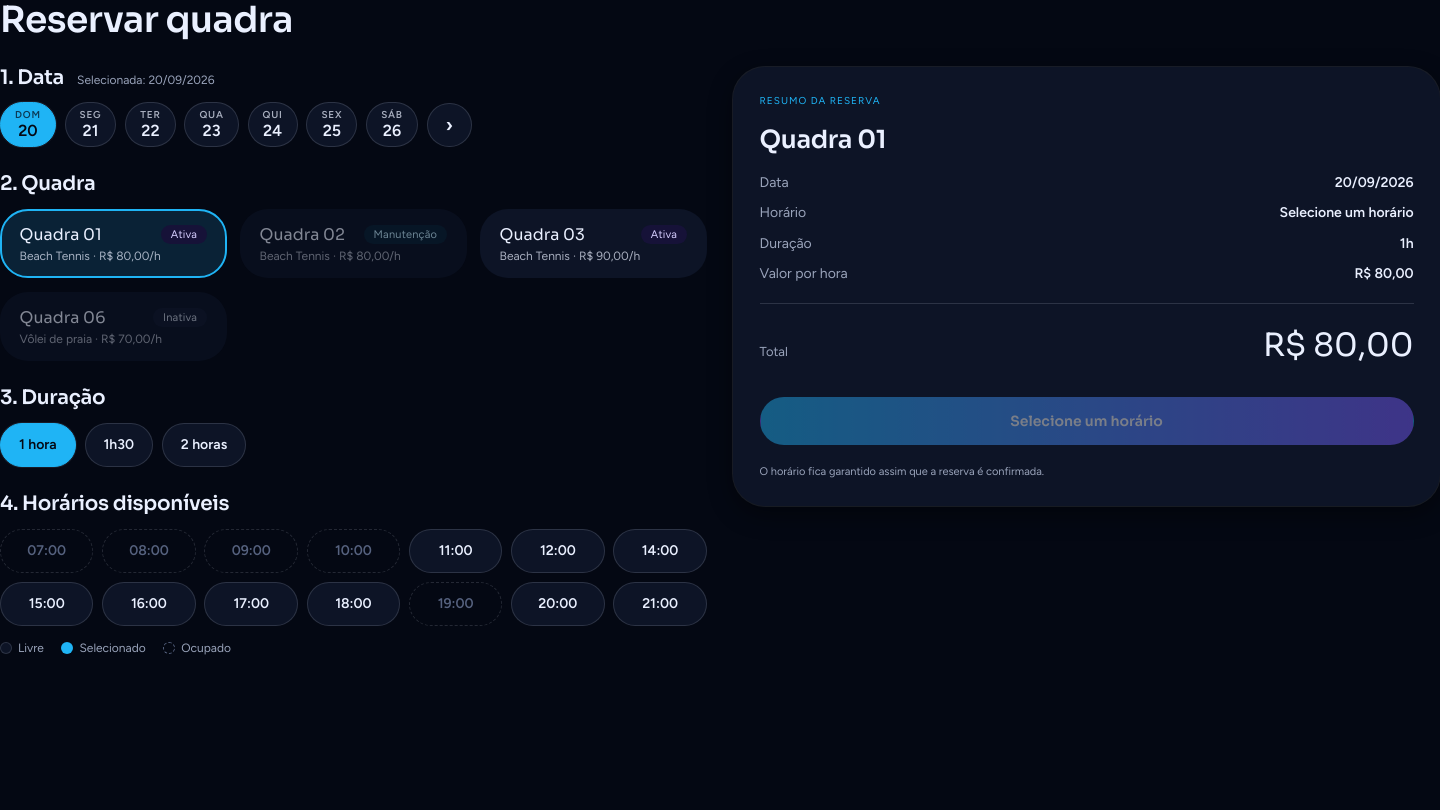
Test: ReservarPage › volta do diálogo sem reservar
The width and height of the screenshot is (1440, 810).
Click the button "15:00".
click(47, 604)  # box [0, 582, 93, 626]
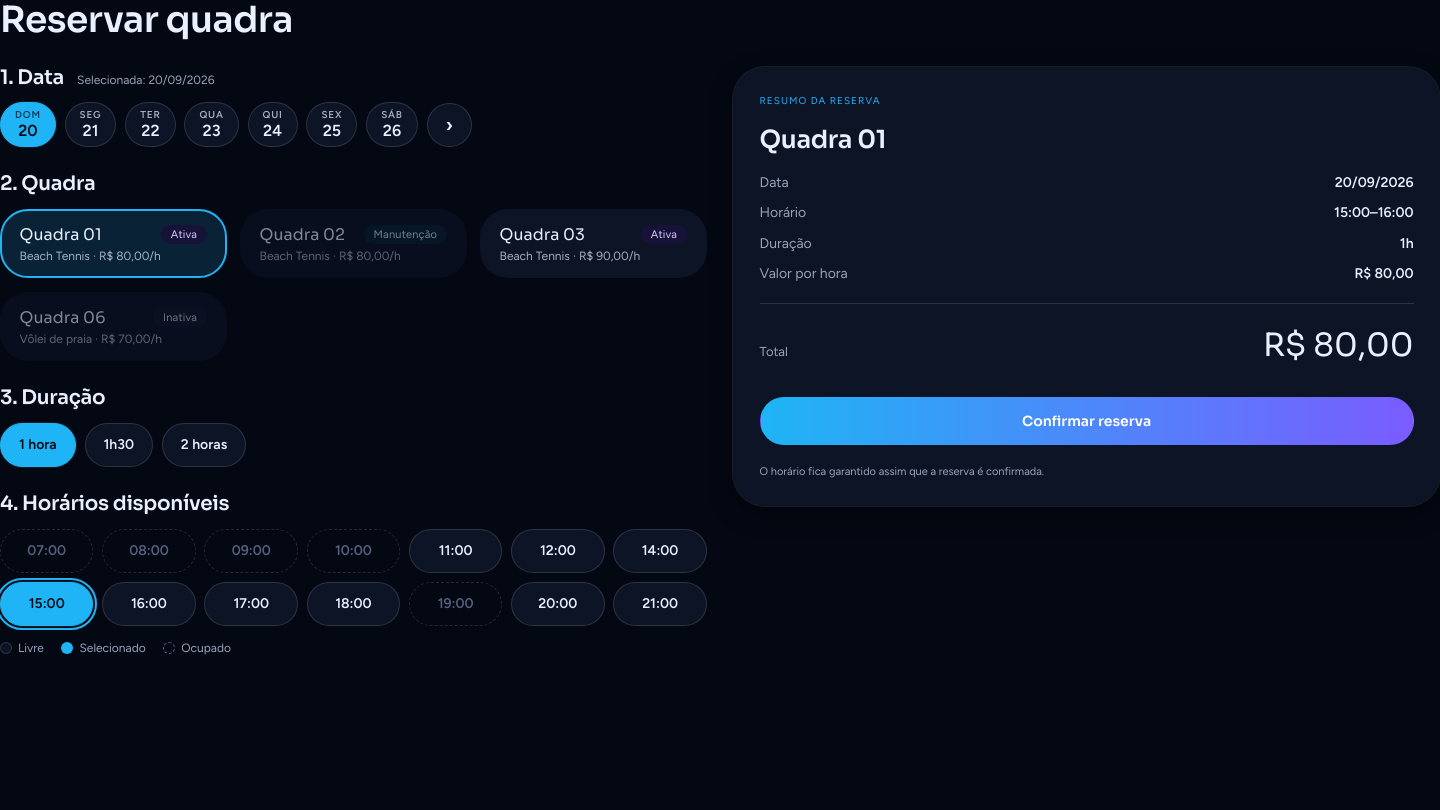
Click the button "Confirmar reserva".
click(1087, 421)  # box [760, 397, 1414, 445]
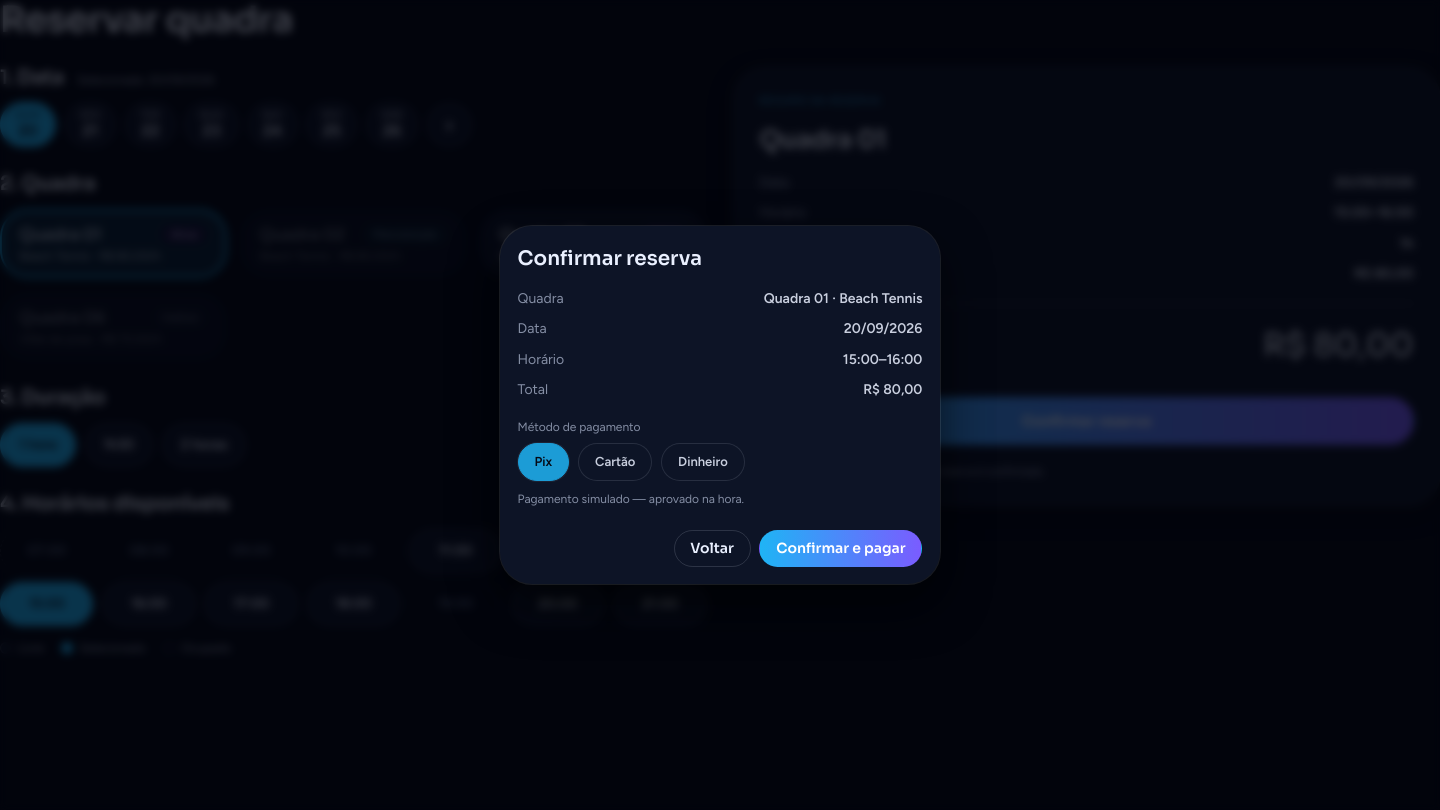
Click the button "Voltar".
click(712, 548)  # box [674, 530, 751, 567]
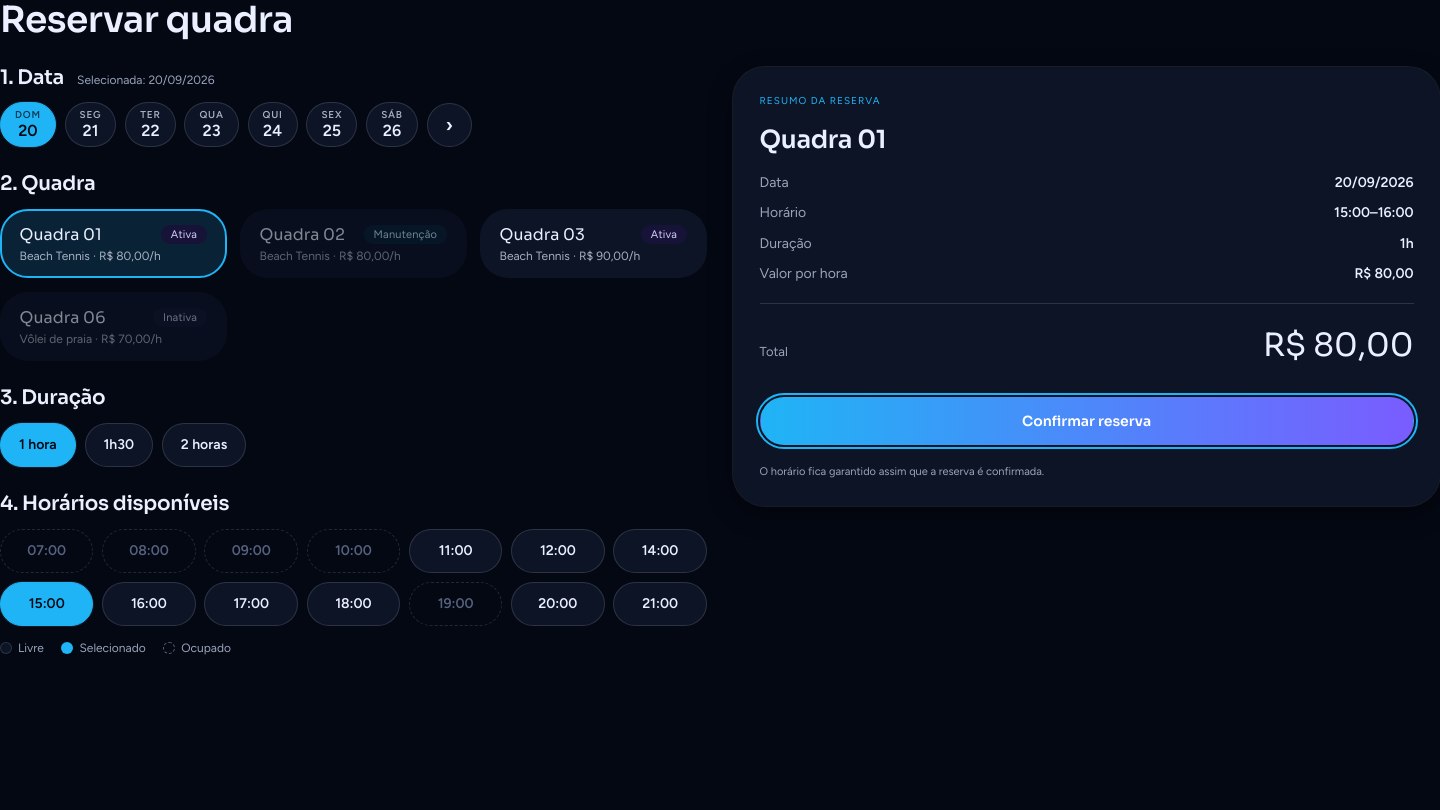
Now the button "Confirmar reserva" is shown, box [760, 397, 1414, 445]
Now the dialog is gone
